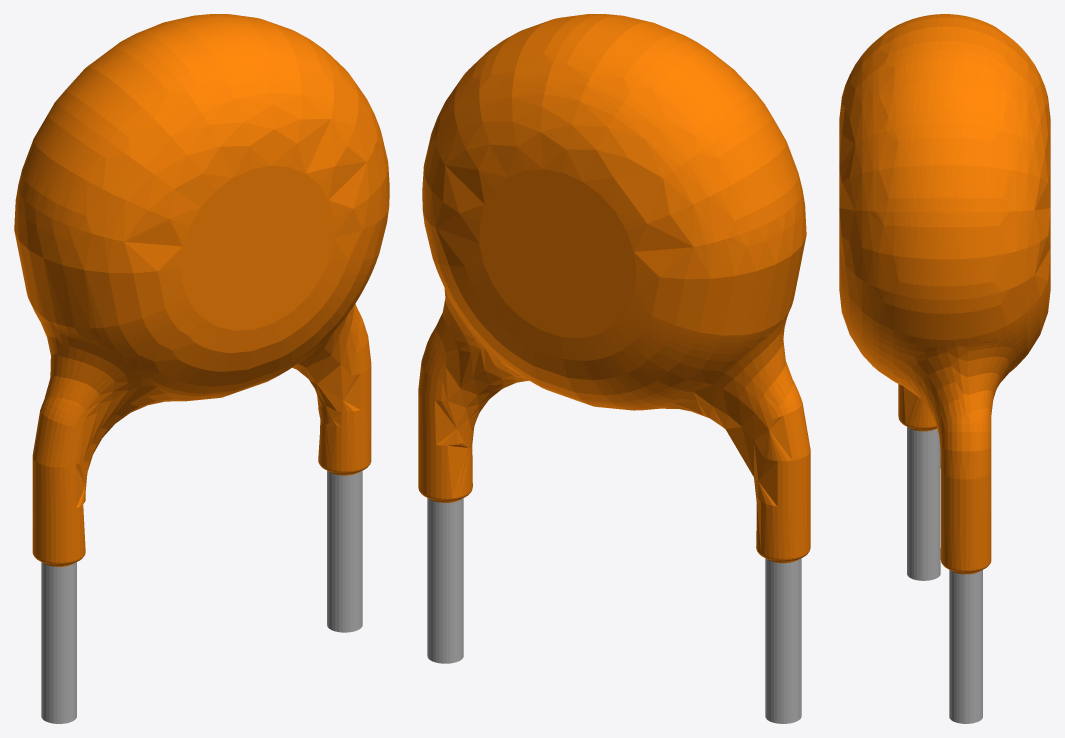
Rendered from cdisk_p8x1_d9_th5.obj.
The picture shows the model from 3 angles, left to right: view 1: azimuth 30°, elevation 25°; view 2: azimuth 150°, elevation 25°; view 3: azimuth 270°, elevation 25°; orthographic projection. The views are drawn at different scales.
Visible parts, largest first — view 1: cdisk_p8x1_d9_th5; view 2: cdisk_p8x1_d9_th5; view 3: cdisk_p8x1_d9_th5.
Boxes of the visible parts, x1=… form: cdisk_p8x1_d9_th5: x1=14, y1=14, x2=389, y2=723; cdisk_p8x1_d9_th5: x1=418, y1=14, x2=810, y2=723; cdisk_p8x1_d9_th5: x1=839, y1=14, x2=1050, y2=723.
Size of the model in its own units: 0.00702 by 0.0122 by 0.00382.
